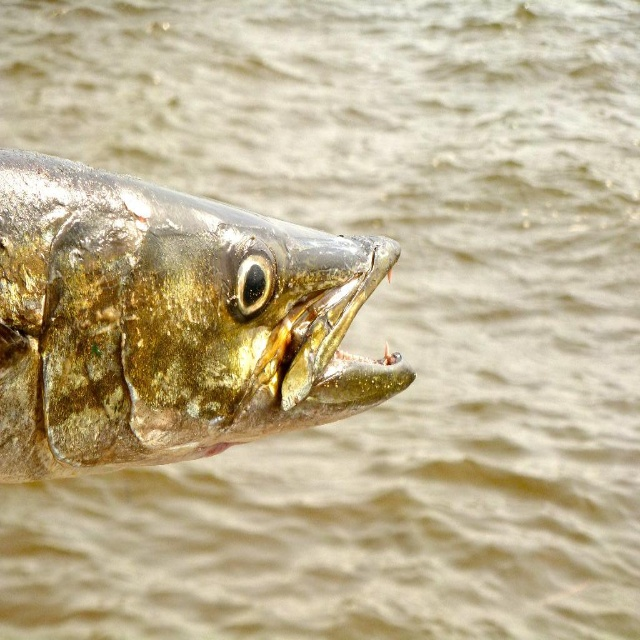Fish: (0, 147, 417, 484)
